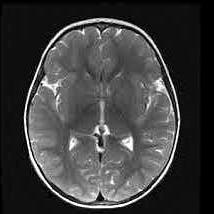Normal_Brain: (1, 3, 213, 214)
